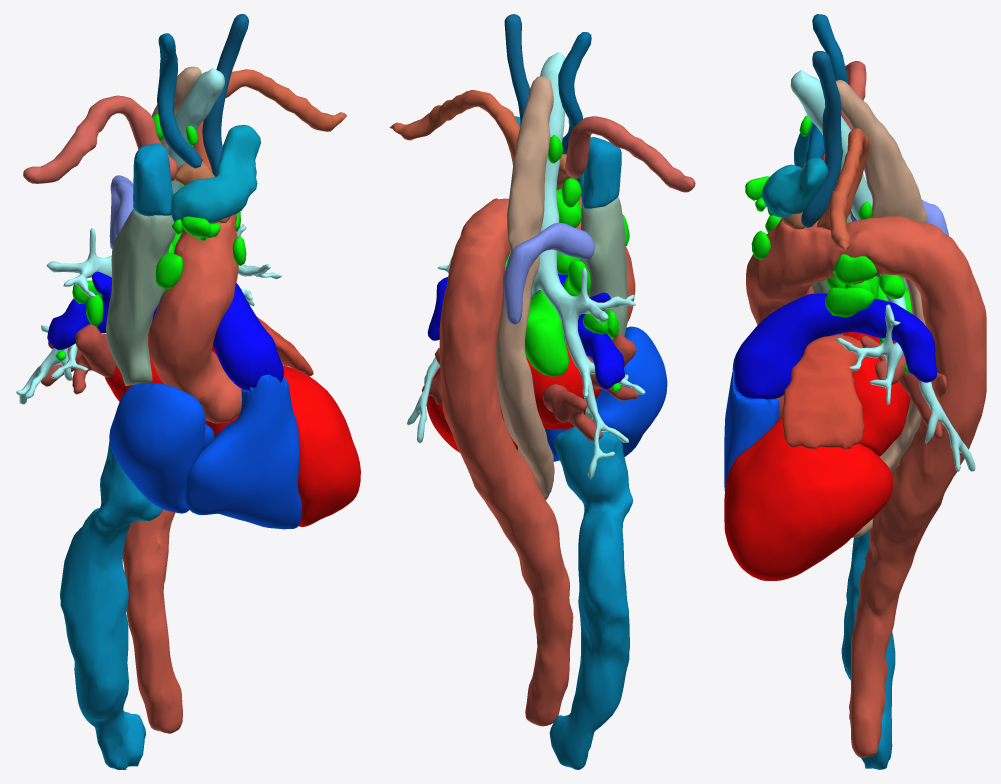
The model's file is case_001.glb.
The picture shows the model from 3 angles, left to right: view 1: azimuth 30°, elevation 25°; view 2: azimuth 150°, elevation 25°; view 3: azimuth 270°, elevation 25°; orthographic projection. The views are drawn at different scales.
Parts seen in each view (by area): view 1: aorta, inferior vena cava, right ventricle, right atrium, superior vena cava, left ventricle, pulmonary artery, airway, left brachiocephalic vein, right subclavian artery, left subclavian artery, right brachiocephalic vein (+10 smaller); view 2: aorta, inferior vena cava, esophagus, airway, right atrium, superior vena cava, right subclavian artery, azygous vein, pulmonary venous system, Station 7, left subclavian artery, pulmonary artery (+7 smaller); view 3: aorta, left ventricle, pulmonary artery, left atrial appendage, esophagus, airway, left atrium, inferior vena cava, left common carotid artery, right ventricle, left subclavian artery, left brachiocephalic vein (+8 smaller).
Boxes of the visible parts, x1,y1,x2,y2 form: aorta: (122,214,242,733); inferior vena cava: (60,440,162,769); right ventricle: (184,374,301,529); right atrium: (109,383,214,513); superior vena cava: (106,209,175,385); left ventricle: (205,366,360,526); pulmonary artery: (47,271,283,390); airway: (16,68,282,404); left brachiocephalic vein: (171,125,260,222); right subclavian artery: (23,95,178,183); left subclavian artery: (193,69,346,171); right brachiocephalic vein: (133,143,173,216); aorta: (439,196,635,726); inferior vena cava: (549,426,632,769); esophagus: (496,76,554,499); airway: (407,52,645,479); right atrium: (545,326,667,460); superior vena cava: (580,197,627,340); right subclavian artery: (565,116,695,192); azygous vein: (503,222,594,324); pulmonary venous system: (422,334,638,441); Station 7: (525,290,568,376); left subclavian artery: (389,90,519,165); pulmonary artery: (427,274,624,389); aorta: (746,216,986,757); left ventricle: (724,417,892,580); pulmonary artery: (734,275,937,399); left atrial appendage: (782,334,865,449); esophagus: (835,80,927,537); airway: (790,70,975,471); left atrium: (842,332,910,456); inferior vena cava: (841,531,895,769); left common carotid artery: (801,51,842,227); right ventricle: (724,369,779,490); left subclavian artery: (817,128,869,250); left brachiocephalic vein: (762,157,828,217).
Bounding box in the file's own units: 0.1796 × 0.3993 × 0.125.
